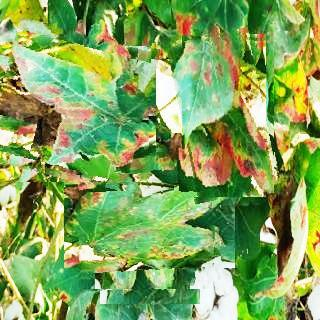blight: (0, 24, 152, 182), (79, 148, 221, 289), (174, 31, 274, 197)
